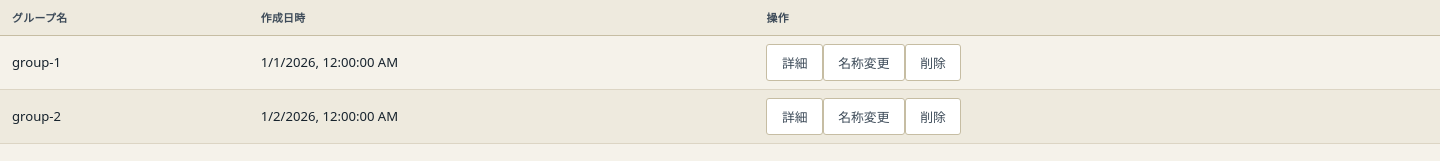
Scenario: GroupTable › switches a row into rename mode and commits the new name
Click the button with test id "group-table-rename-button" in the row of "group-1".
click(864, 62)  # box [823,44,905,81]
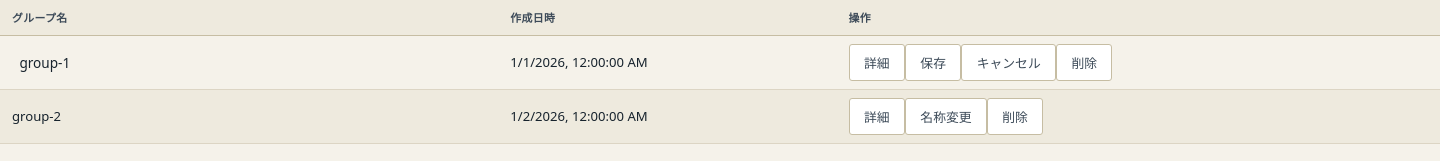
Replace the text in the field with test id "group-table-rename-input" with "renamed-group" at (249, 62), box [12,48,486,77]
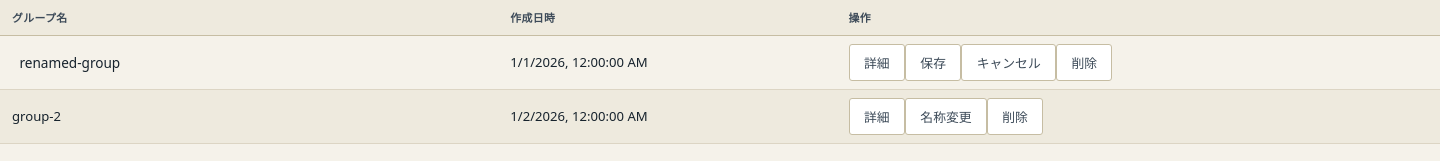
Click the button with test id "group-table-rename-commit-button".
click(933, 62)  # box [905,44,961,81]
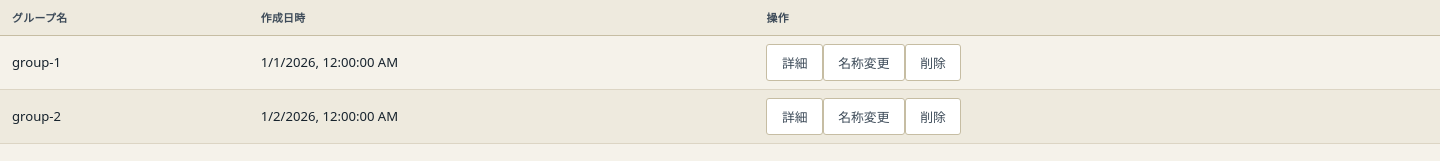
Expected: the field with test id "group-table-rename-input" is gone
